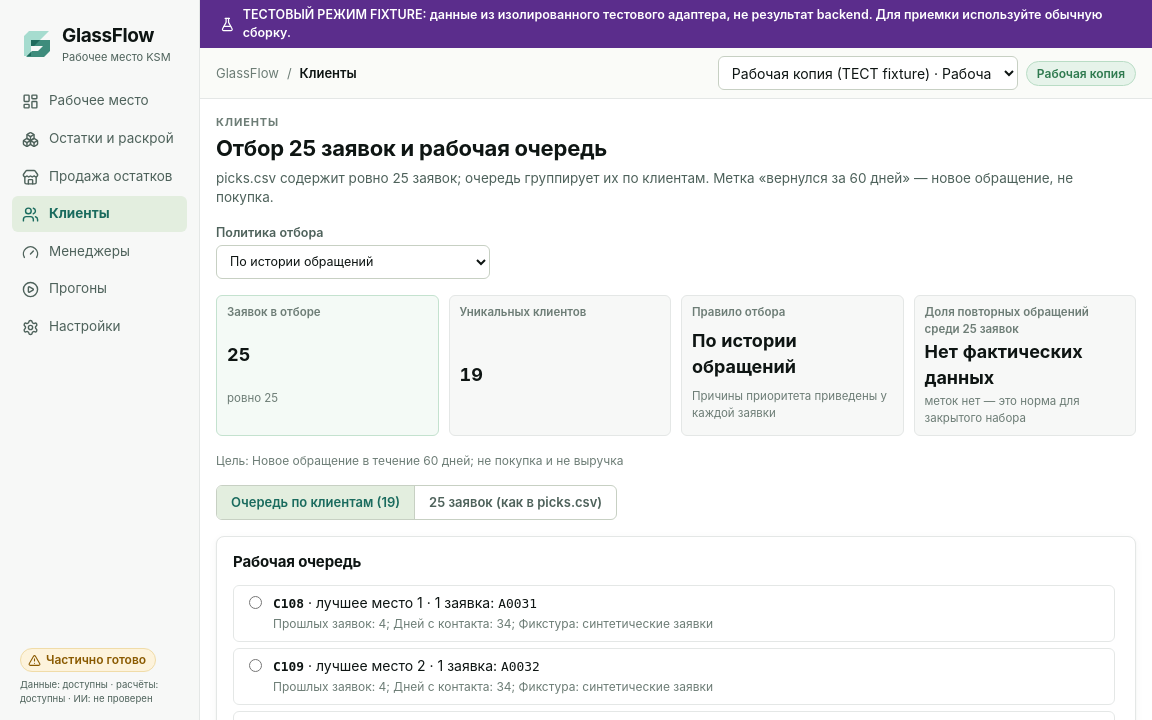
fixture transport (explicit test mode) › keeps the quote customer separate from the reminder recipient
Expected: the text "ровно 25" is shown, [227,391,278,405]
Click the 1st radio button at [256, 602], box [249,596,262,609]
(page scrolled)
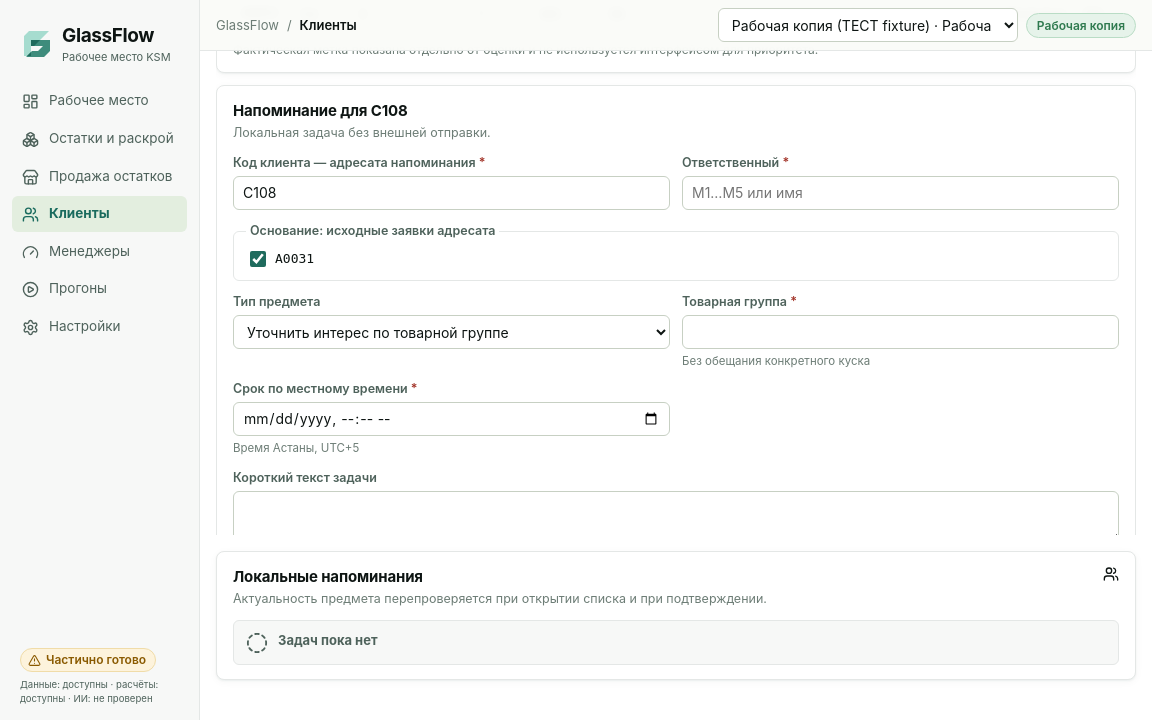
Expected: the heading "Напоминание для C108" is shown, [233,101,408,120]
